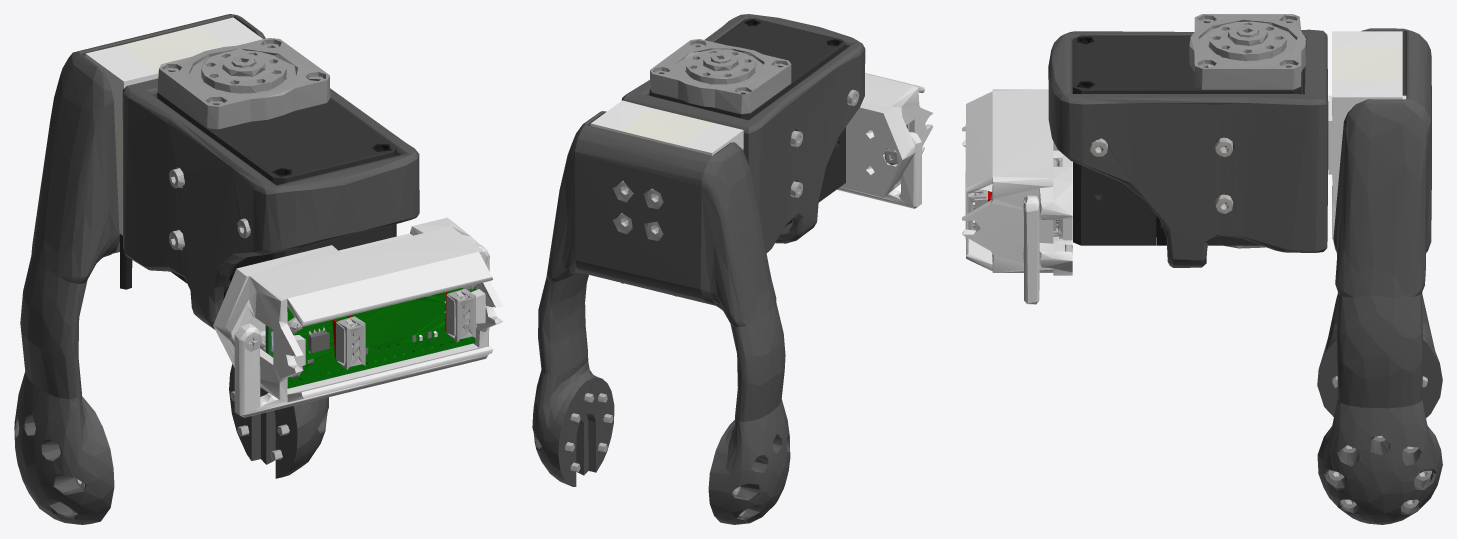
The model's file is link_leg_1_R_1.obj.
3 views of the same model, side by side, from view 1: azimuth 30°, elevation 25°; view 2: azimuth 150°, elevation 25°; view 3: azimuth 270°, elevation 25° (orthographic). The views are drawn at different scales.
Parts seen in each view (by area): view 1: link_leg_1_R_1; view 2: link_leg_1_R_1; view 3: link_leg_1_R_1.
Part boxes in pixels (x1,y1,x2,y2): link_leg_1_R_1: (14,14,503,524); link_leg_1_R_1: (532,14,933,524); link_leg_1_R_1: (962,14,1442,524).
Bounding box in the file's own units: 78.04 × 126 × 123.
